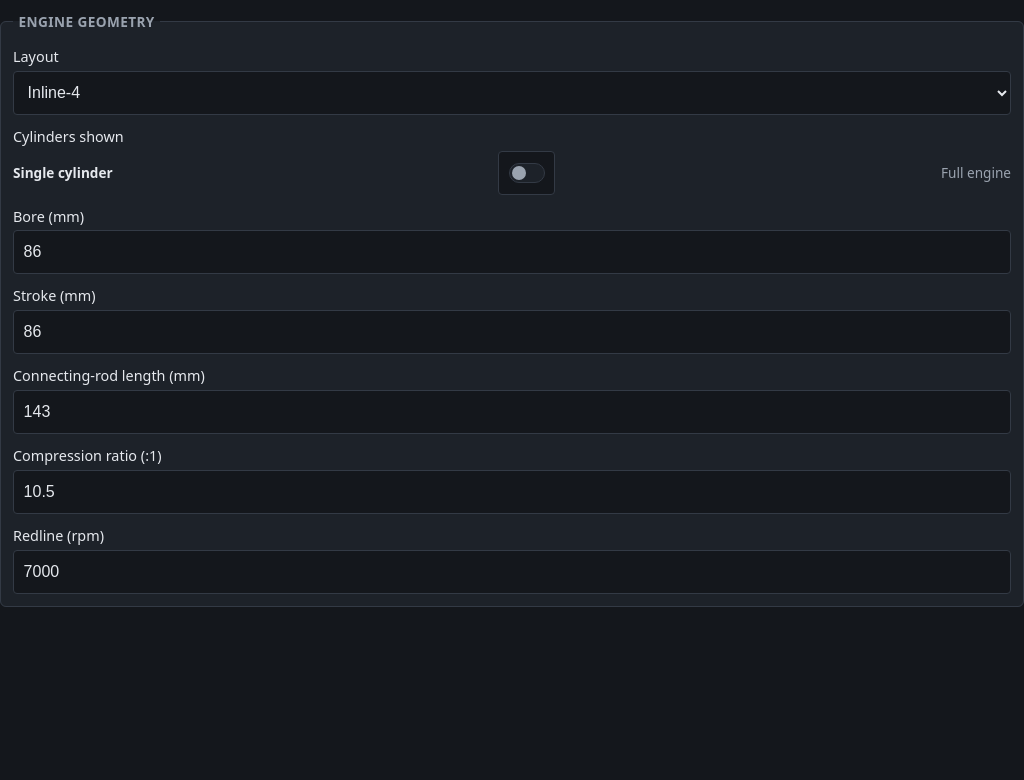
Scenario: EngineGeometryControls › shows a validation message and does not update the store for a compression ratio below 5:1
Replace the text in the number field labelled "Compression ratio (:1)" with "0.5" at point(512, 492), box [13, 470, 1011, 514]
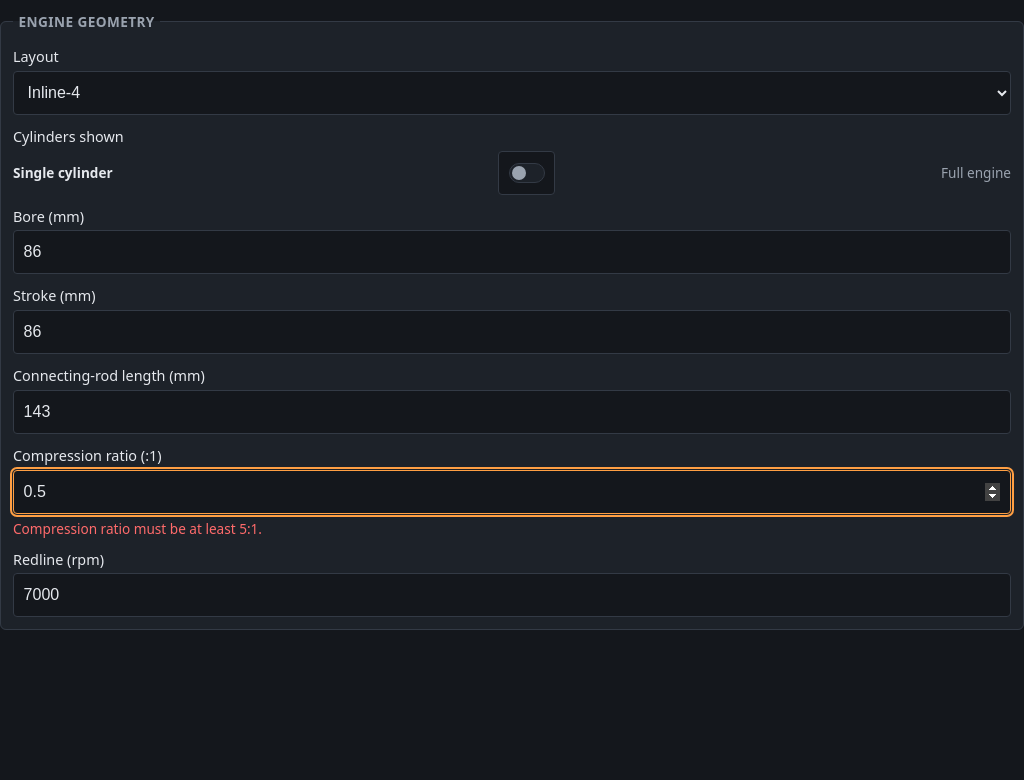
Check: the message reads "Compression ratio must be at least 5:1.", box [13, 519, 262, 538]
